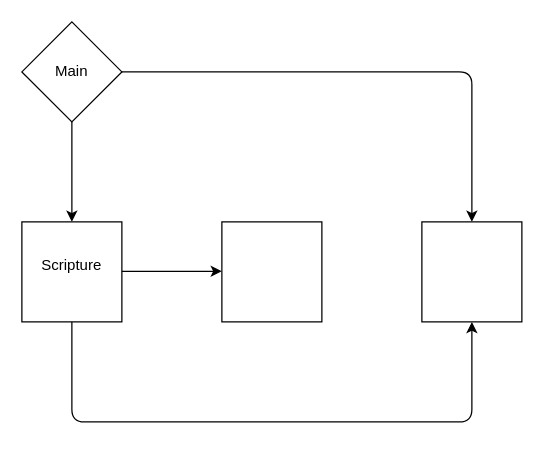
Some shapes in this 544 by 454 pixel diagram are drawn without their labels. Each missing label, with the centre of its shape:
Reference: (x=271, y=271)
Word: (x=471, y=271)
